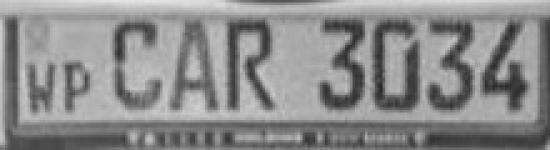0: (367, 13, 422, 113)
3: (314, 12, 369, 111), (424, 16, 478, 116)
4: (481, 17, 533, 114)
A: (167, 17, 224, 117)
C: (109, 17, 168, 116)
P: (63, 56, 93, 115)
R: (223, 16, 282, 119)
W: (20, 59, 58, 119)
